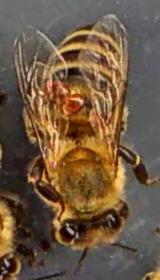varroa_mite: (64, 90, 91, 120)
